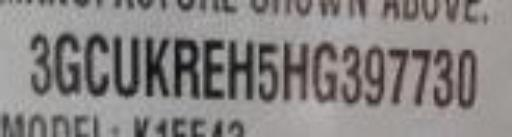letter: (50, 28, 84, 99), (109, 31, 143, 102), (224, 37, 256, 108), (168, 34, 202, 99), (80, 31, 112, 98), (140, 31, 172, 98), (280, 37, 312, 104), (252, 40, 284, 105), (312, 40, 342, 105), (199, 37, 227, 104), (25, 31, 53, 96), (384, 43, 412, 108), (430, 47, 458, 108), (362, 43, 386, 108), (409, 43, 433, 108), (456, 46, 480, 111), (337, 44, 361, 105)
